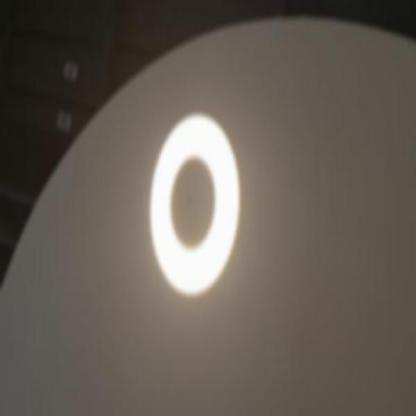light_on: (131, 96, 254, 308)
